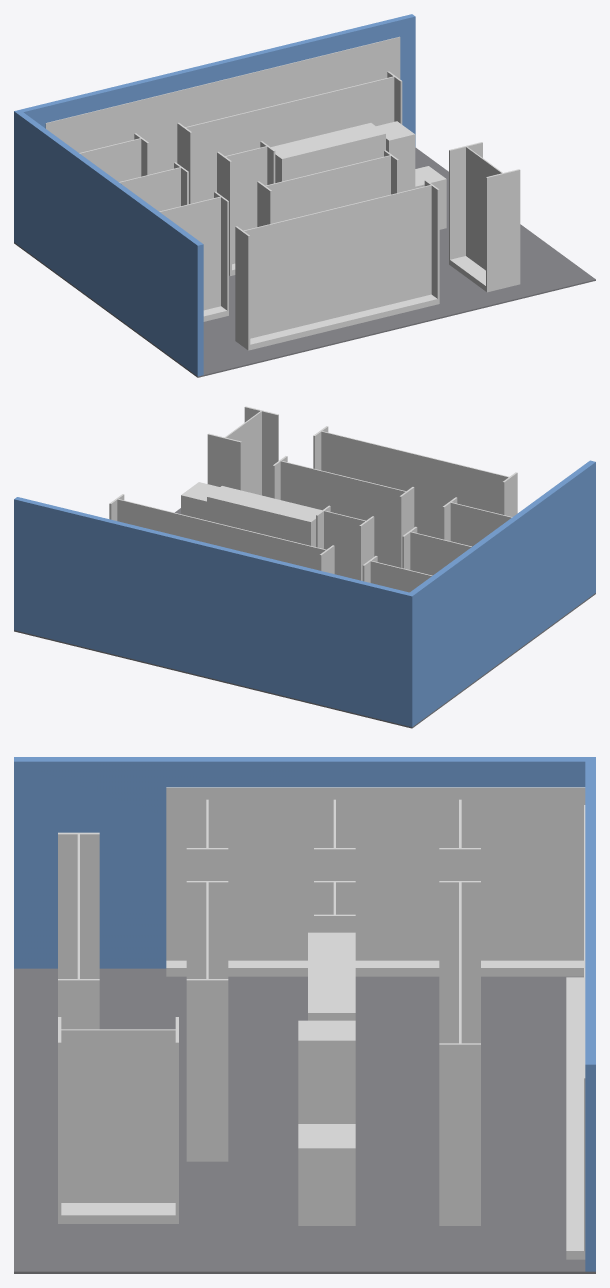
The model's file is drug-storage-area.glb.
The picture shows the model from 3 angles, top to bottom: view 1: azimuth 30°, elevation 25°; view 2: azimuth 150°, elevation 25°; view 3: azimuth 270°, elevation 25°; orthographic projection. The views are drawn at different scales.
Parts seen in each view (by area): view 1: Vis3D_Wall, Vis3D_Fixture_G_FSG_Panels, Vis3D_Floor, Vis3D_Fixture_D_FSD_Panels, Vis3D_Fixture_F_FSF_Panels, Vis3D_SP_DrugCabinet, Vis3D_Fixture_H_FSH_EndCap_XPos, Vis3D_Fixture_C_FS_Panel, Vis3D_Uniweb_Back_P3, Vis3D_Fixture_E_FSE_Panels, Vis3D_Uniweb_Back_P7, Vis3D_Uniweb_Back_P6 (+18 smaller); view 2: Vis3D_Wall, Vis3D_Fixture_G_FSG_Panels, Vis3D_Fixture_F_FSF_Panels, Vis3D_Fixture_D_FSD_Panels, Vis3D_SP_DrugCabinet, Vis3D_Fixture_E_FSE_Panels, Vis3D_Fixture_H_FSH_EndCap_XNeg, Vis3D_Fixture_H_FSH_Panels, Vis3D_Fixture_C_FS_Panel, Vis3D_Fixture_B_FS_Panel, Vis3D_Fixture_H_FSH_EndCap_XPos, Vis3D_Floor (+5 smaller); view 3: Vis3D_Floor, Vis3D_Wall, Vis3D_Fixture_H_FSH_Panels, Vis3D_Uniweb_Left_P1, Vis3D_Uniweb_Left_P2, Vis3D_Uniweb_Left_P3, Vis3D_Uniweb_Left_P4, Vis3D_Fixture_F_FSF_EndCap_XPos, Vis3D_Fixture_D_FSD_EndCap_XPos, Vis3D_Fixture_D_FSD_EndCap_XNeg, Vis3D_SP_CenterTower, Vis3D_SP_ComputerCabinet (+18 smaller).
Boxes of the visible parts, bbox=[...] form: Vis3D_Wall: bbox=[14, 14, 415, 376]; Vis3D_Fixture_G_FSG_Panels: bbox=[243, 185, 431, 338]; Vis3D_Floor: bbox=[14, 147, 595, 377]; Vis3D_Fixture_D_FSD_Panels: bbox=[185, 76, 394, 203]; Vis3D_Fixture_F_FSF_Panels: bbox=[265, 155, 390, 223]; Vis3D_SP_DrugCabinet: bbox=[271, 123, 385, 182]; Vis3D_Fixture_H_FSH_EndCap_XPos: bbox=[486, 169, 520, 292]; Vis3D_Fixture_C_FS_Panel: bbox=[159, 196, 220, 310]; Vis3D_Uniweb_Back_P3: bbox=[150, 87, 191, 174]; Vis3D_Fixture_E_FSE_Panels: bbox=[225, 146, 267, 264]; Vis3D_Uniweb_Back_P7: bbox=[337, 36, 400, 89]; Vis3D_Uniweb_Back_P6: bbox=[275, 52, 337, 104]; Vis3D_Wall: bbox=[14, 460, 595, 726]; Vis3D_Fixture_G_FSG_Panels: bbox=[321, 431, 509, 539]; Vis3D_Fixture_F_FSF_Panels: bbox=[280, 461, 405, 567]; Vis3D_Fixture_D_FSD_Panels: bbox=[117, 499, 325, 570]; Vis3D_SP_DrugCabinet: bbox=[207, 486, 321, 546]; Vis3D_Fixture_E_FSE_Panels: bbox=[324, 510, 365, 579]; Vis3D_Fixture_H_FSH_EndCap_XNeg: bbox=[207, 433, 241, 490]; Vis3D_Fixture_H_FSH_Panels: bbox=[225, 411, 261, 495]; Vis3D_Fixture_C_FS_Panel: bbox=[450, 502, 512, 546]; Vis3D_Fixture_B_FS_Panel: bbox=[410, 531, 471, 575]; Vis3D_Fixture_H_FSH_EndCap_XPos: bbox=[244, 406, 278, 497]; Vis3D_Floor: bbox=[14, 508, 595, 728]; Vis3D_Floor: bbox=[14, 968, 595, 1273]; Vis3D_Wall: bbox=[14, 757, 595, 1271]; Vis3D_Fixture_H_FSH_Panels: bbox=[61, 1029, 175, 1202]; Vis3D_Uniweb_Left_P1: bbox=[471, 787, 585, 960]; Vis3D_Uniweb_Left_P2: bbox=[356, 787, 470, 960]; Vis3D_Uniweb_Left_P3: bbox=[242, 787, 356, 960]; Vis3D_Uniweb_Left_P4: bbox=[166, 787, 242, 960]; Vis3D_Fixture_F_FSF_EndCap_XPos: bbox=[186, 979, 228, 1161]; Vis3D_Fixture_D_FSD_EndCap_XPos: bbox=[439, 1043, 480, 1225]; Vis3D_Fixture_D_FSD_EndCap_XNeg: bbox=[439, 881, 480, 1043]; Vis3D_SP_CenterTower: bbox=[298, 1020, 355, 1123]; Vis3D_SP_ComputerCabinet: bbox=[298, 1124, 355, 1225].
Size of the model in its own units: 306 by 97 by 244.
